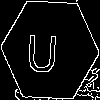U: (25, 25, 60, 73)
